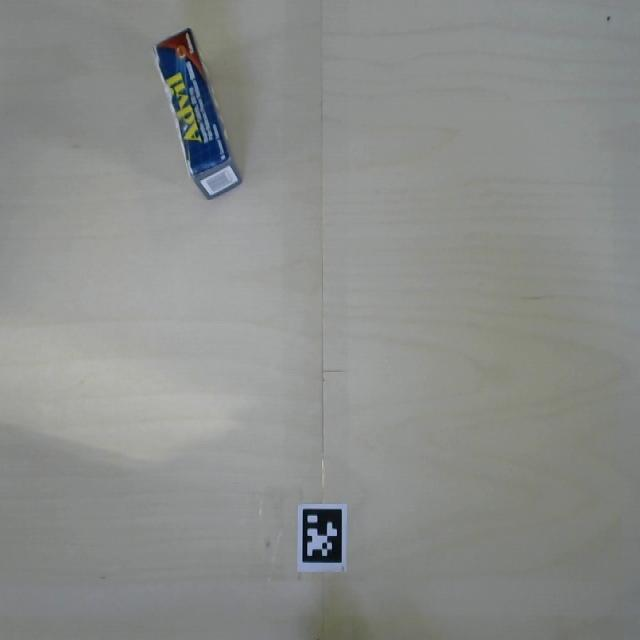advil: (151, 20, 250, 214)
